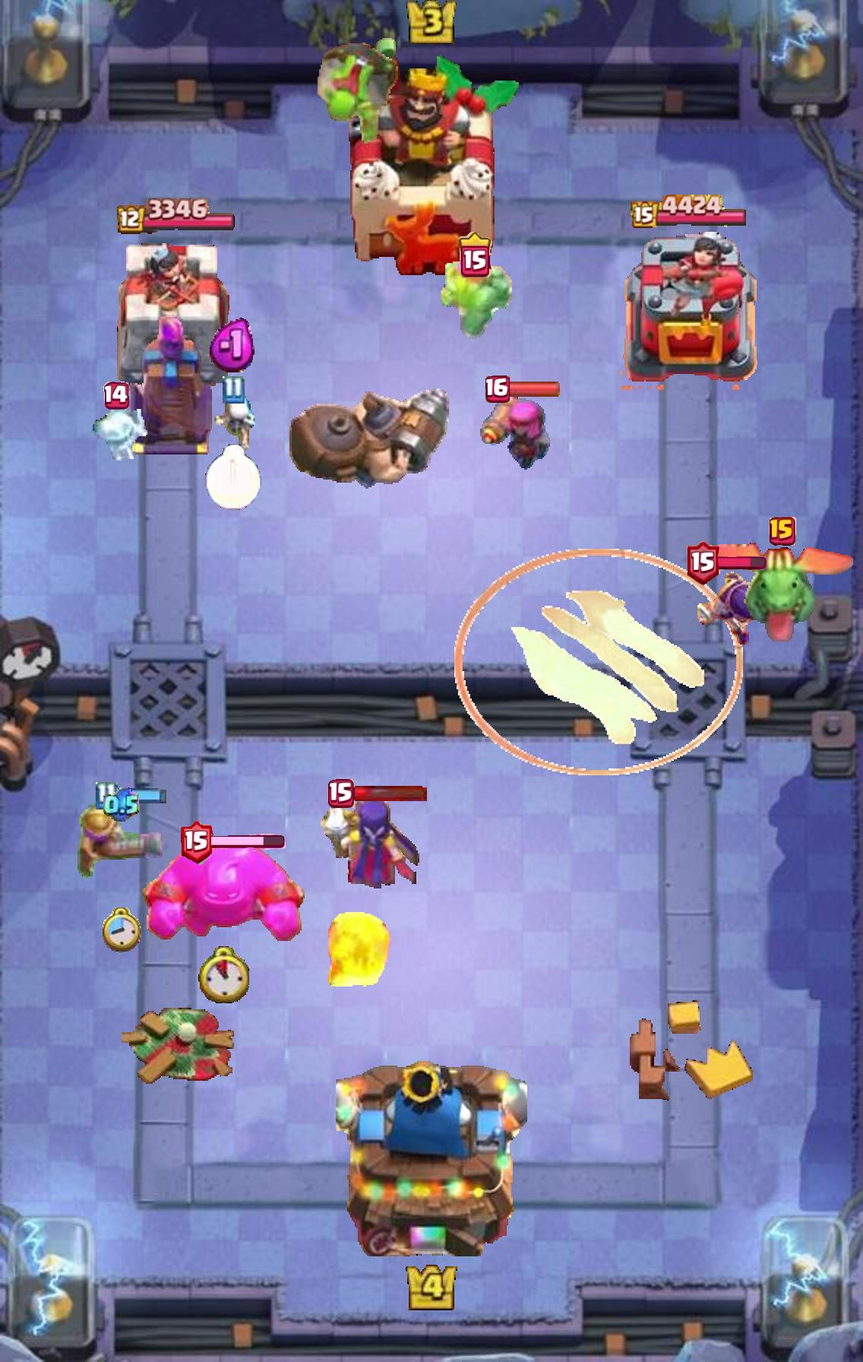elixir: (209, 318, 259, 374), (104, 788, 139, 824)
fireball: (323, 904, 394, 992)
musketeer: (77, 803, 165, 879)
skeleton: (209, 395, 258, 450)
